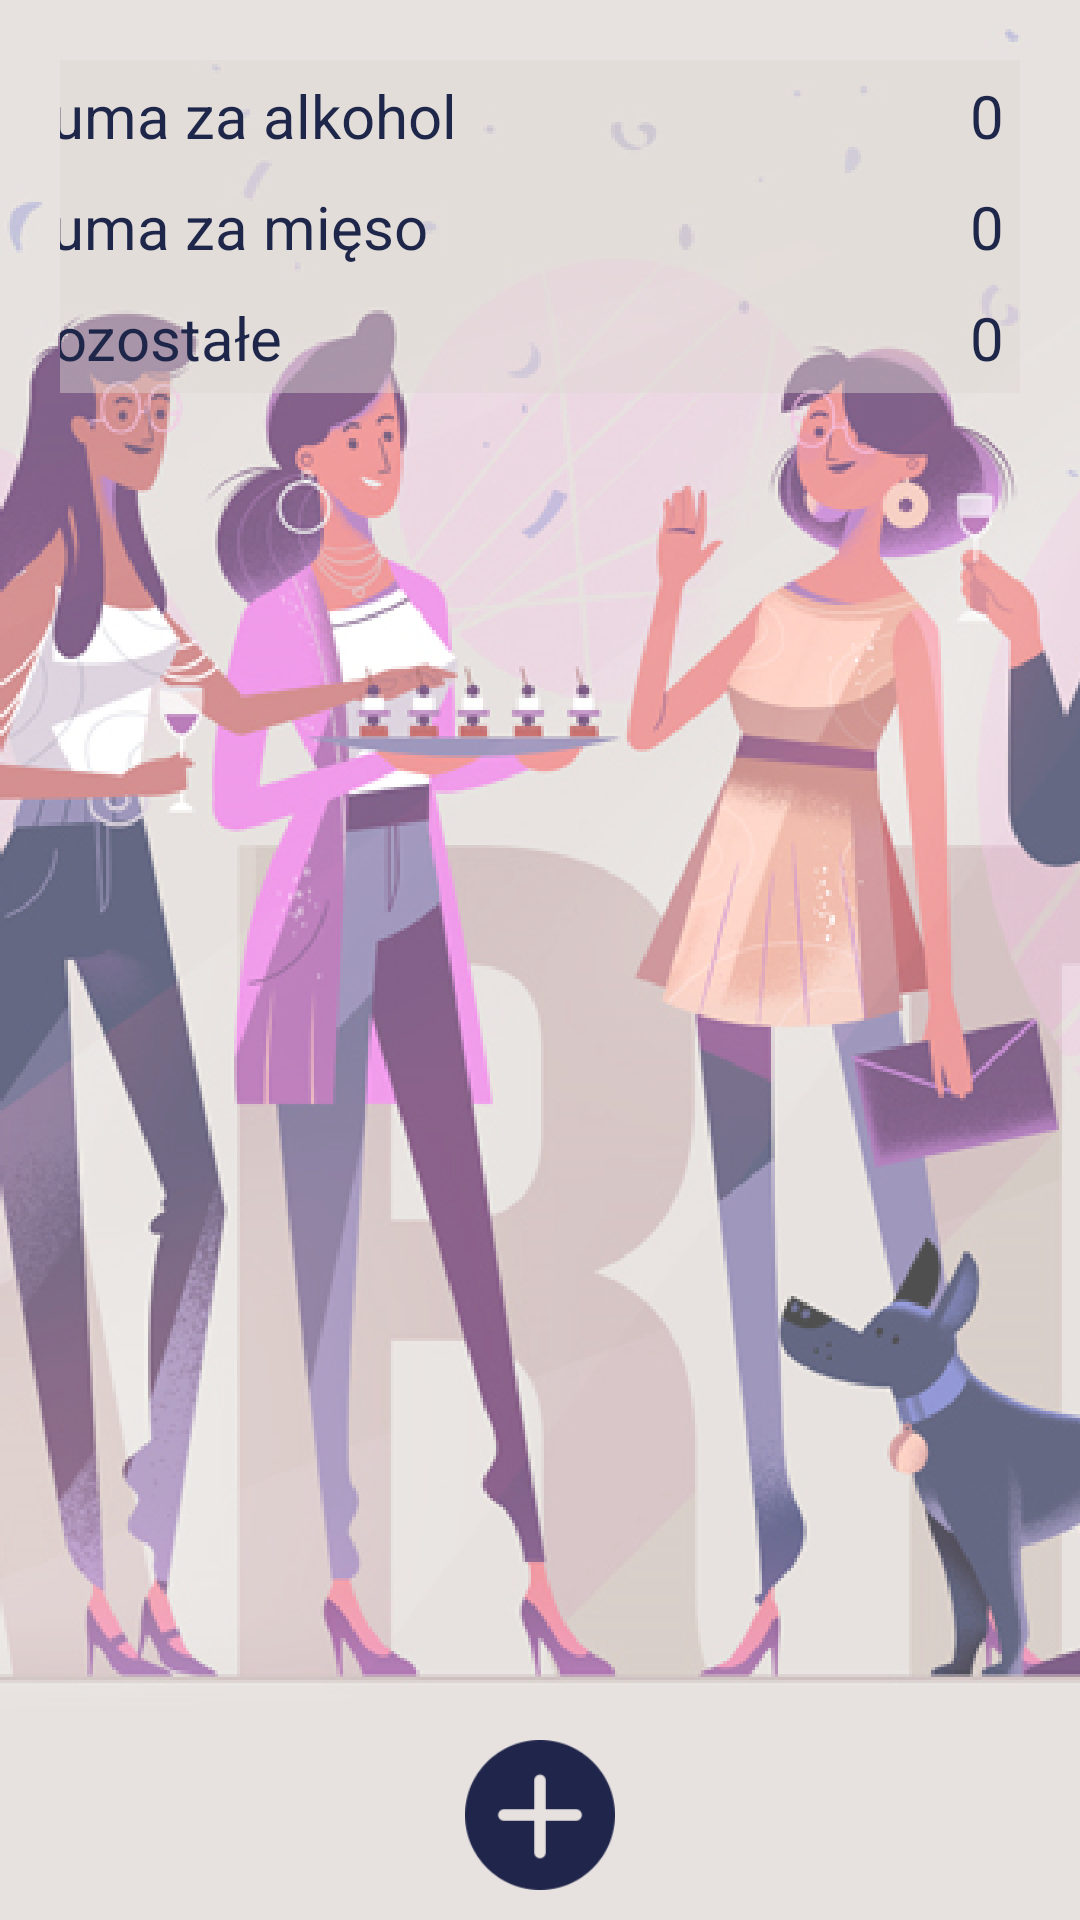

Where to tap for icons on this 1080 × 1920 app screen, as [x,y]:
plus: [540,1815]
